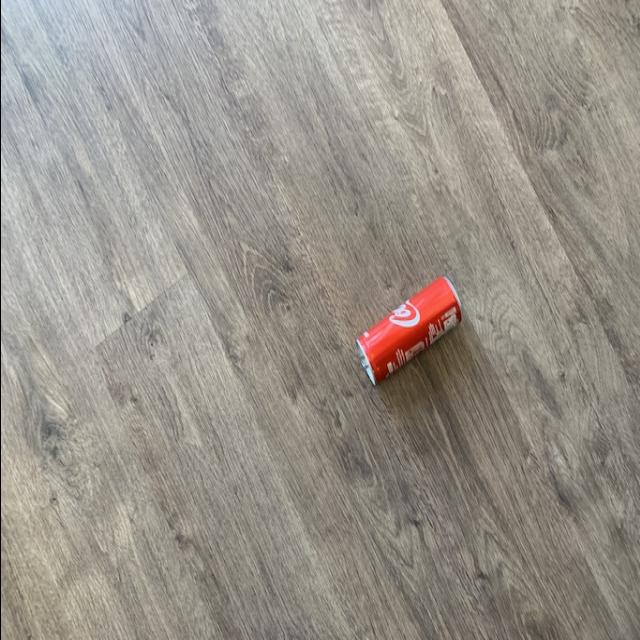Aluminum Can: (336, 250, 478, 416)
